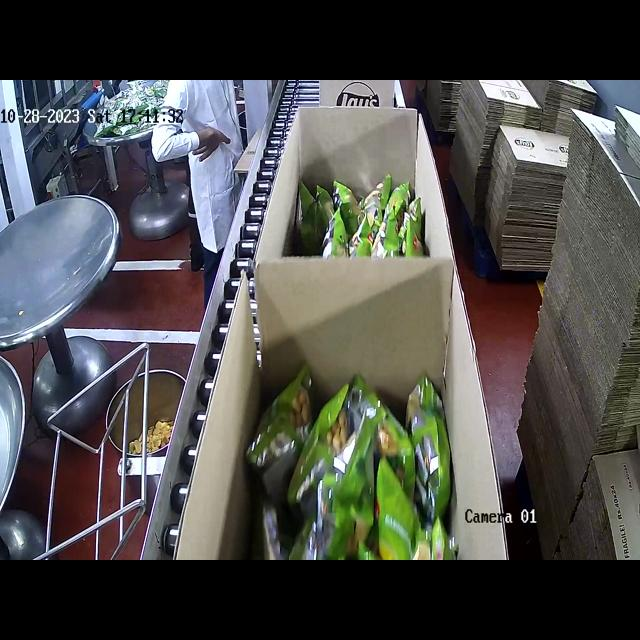yogurt: (245, 363, 455, 558), (293, 167, 421, 257)
